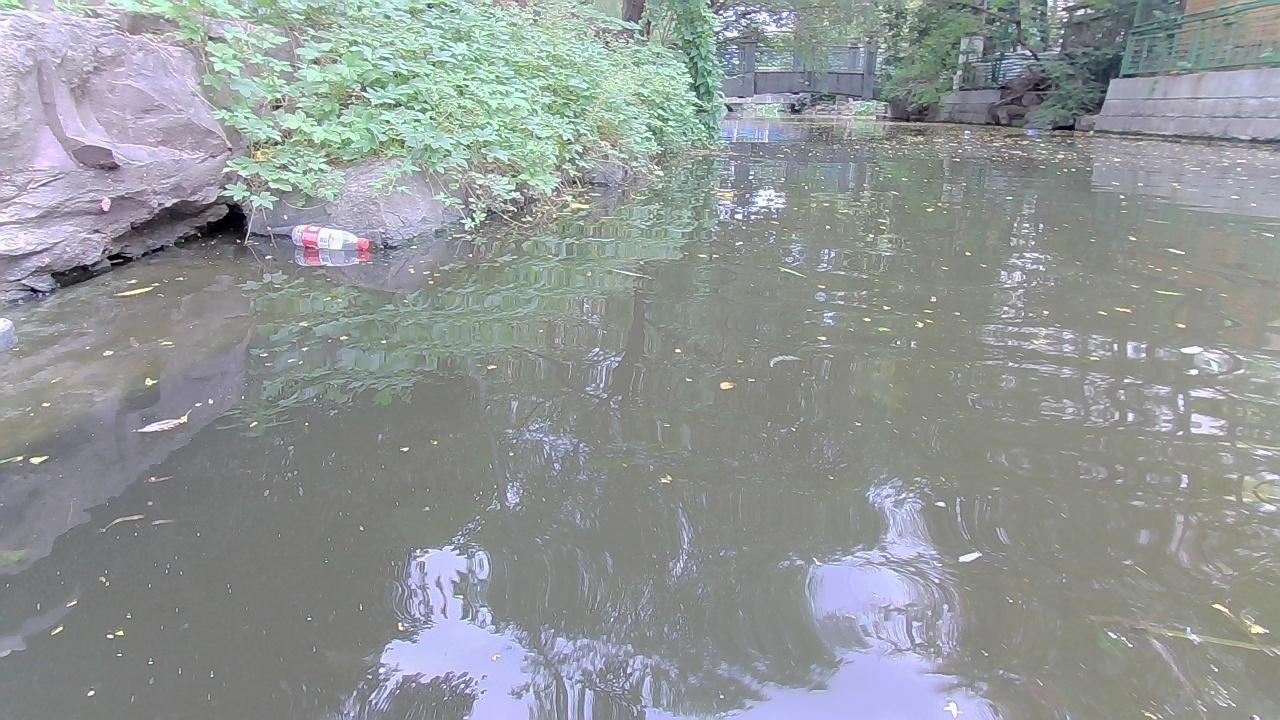bottle: (289, 224, 369, 252), (1023, 127, 1042, 136), (963, 128, 973, 137), (1089, 127, 1096, 133)
